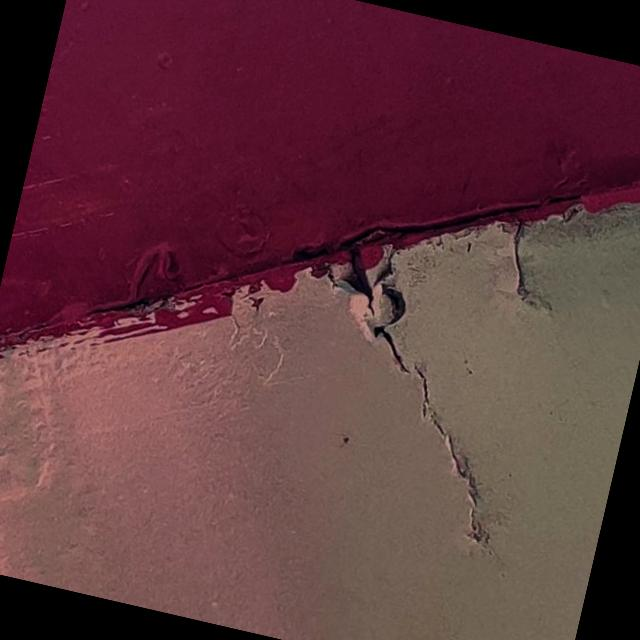crack: (245, 209, 566, 571), (466, 200, 566, 322)
